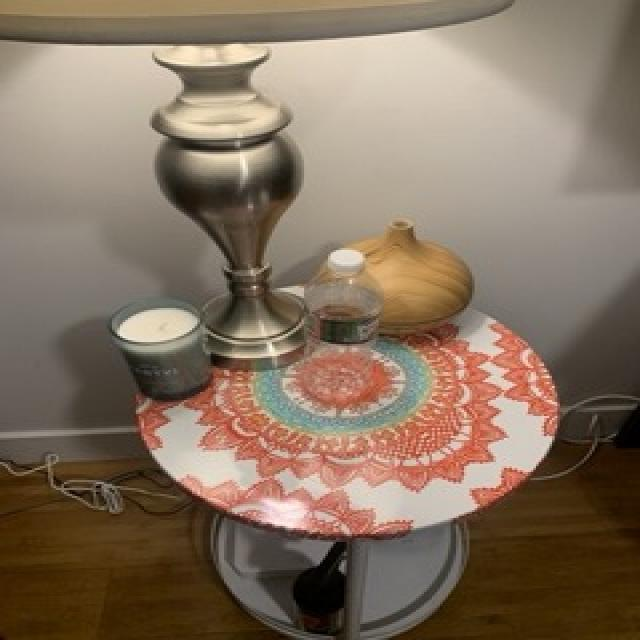water_bottle: (299, 248, 384, 403)
